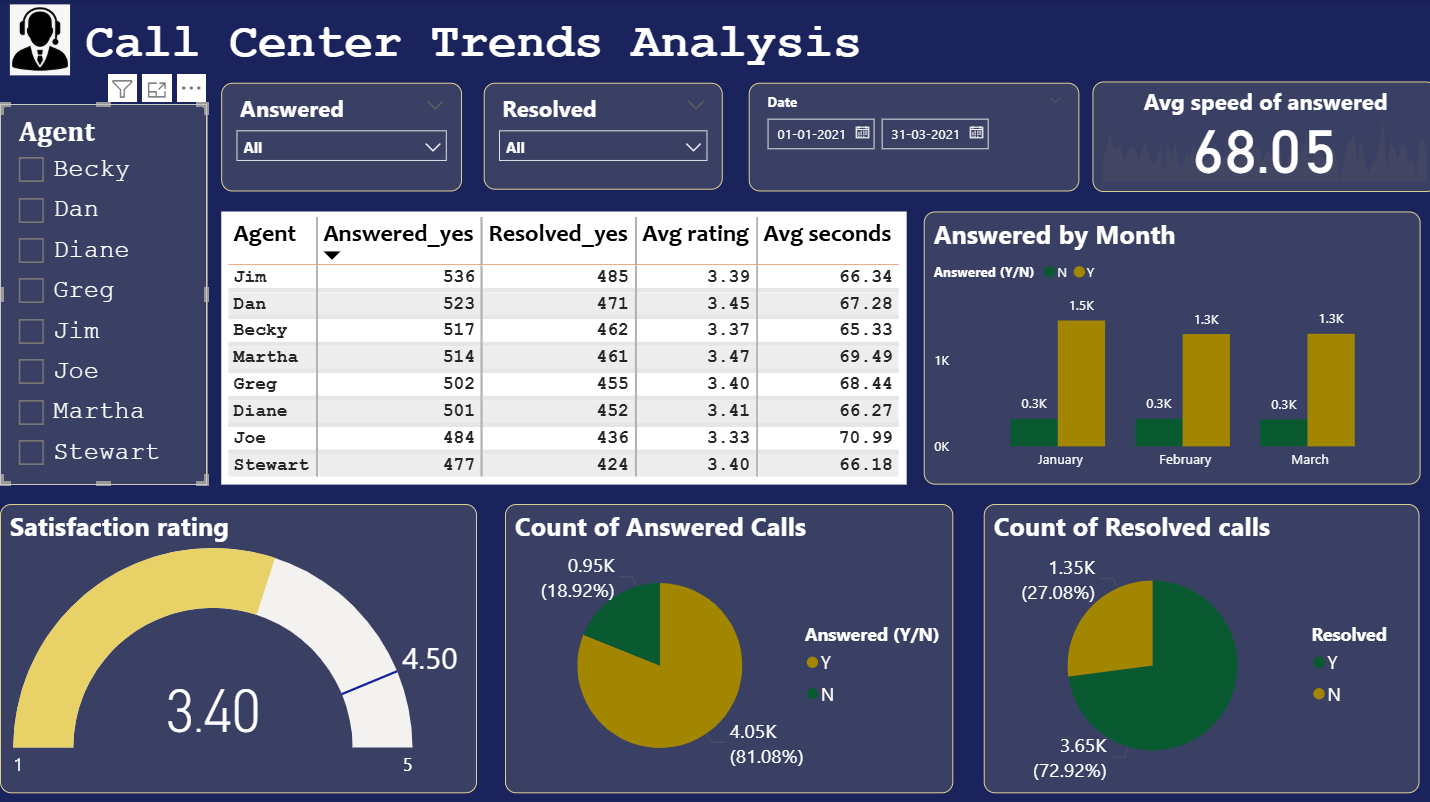

The dashboard page shown, as its layout file describes it:
{"tool":"powerbi","page":{"name":"Page 1","canvas":[1280,720],"ordinal":0},"visuals":[{"type":"textbox","box":[71.6,11.1,777.8,62],"z":0},{"type":"slicer","fields":{"Values":["Sheet1.Answered (Y/N)"]},"box":[197.2,74.8,214.7,97],"z":1000},{"type":"slicer","fields":{"Values":["Sheet1.Agent"]},"box":[0,93.8,184.5,338.8],"z":2000},{"type":"slicer","fields":{"Values":["Sheet1.Resolved"]},"box":[431.1,74.8,213.1,95.4],"z":3000},{"type":"slicer","fields":{"Values":["Sheet1.Date"]},"box":[666.5,74.8,294.3,97],"z":4000},{"type":"gauge","title":"Satisfaction rating","fields":{"Y":["Avg(Sheet1.Satisfaction rating)"],"MinValue":["Min(Sheet1.Satisfaction rating)"],"MaxValue":["Max(Sheet1.Satisfaction rating)"]},"box":[0,450.1,424.7,257.7],"z":5000},{"type":"pieChart","title":"Count of Answered Calls","fields":{"Category":["Sheet1.Answered (Y/N)"],"Y":["CountNonNull(Sheet1.Answered (Y/N))"]},"box":[450.1,450.1,399.2,257.7],"z":6000},{"type":"pieChart","title":"Count of Resolved calls","fields":{"Y":["CountNonNull(Sheet1.Resolved)"],"Category":["Sheet1.Resolved"]},"box":[876.4,450.1,388.1,257.7],"z":7000},{"type":"kpi","title":"Avg speed of answered","fields":{"Indicator":["Avg(Sheet1.Speed of answer in seconds)"],"TrendLine":["Sheet1.Date"]},"box":[973.5,73.2,307,98.6],"z":8000},{"type":"clusteredColumnChart","title":" Answered by Month","fields":{"Category":["Sheet1.Date.Variation.Date Hierarchy.Month"],"Y":["CountNonNull(Sheet1.Answered (Y/N))"],"Series":["Sheet1.Answered (Y/N)"]},"box":[822.3,189.3,442.2,243.4],"z":9000},{"type":"tableEx","fields":{"Values":["Sheet1.Agent","Sheet1.Answered_yes","Sheet1.Resolved_yes","Avg(Sheet1.Satisfaction rating)","Avg(Sheet1.Speed of answer in seconds)"]},"box":[197.2,189.3,610.8,243.4],"z":10000},{"type":"image","box":[0,0,71.6,73.2],"z":13000}]}

Visuals, with their boxes in screenshot pixels (x1, y1, x2, y2), scaled from the page's 1280x720 canvas onto the 1430x802 screenshot:
textbox: (left=80, top=12, right=949, bottom=81)
slicer - Sheet1.Answered (Y/N): (left=220, top=83, right=460, bottom=191)
slicer - Sheet1.Agent: (left=0, top=104, right=206, bottom=482)
slicer - Sheet1.Resolved: (left=482, top=83, right=720, bottom=190)
slicer - Sheet1.Date: (left=745, top=83, right=1073, bottom=191)
"Satisfaction rating" gauge: (left=0, top=501, right=474, bottom=788)
"Count of Answered Calls" pieChart: (left=503, top=501, right=949, bottom=788)
"Count of Resolved calls" pieChart: (left=979, top=501, right=1413, bottom=788)
"Avg speed of answered" kpi: (left=1088, top=82, right=1429, bottom=191)
" Answered by Month" clusteredColumnChart: (left=919, top=211, right=1413, bottom=482)
tableEx - Sheet1.Agent x Sheet1.Answered_yes: (left=220, top=211, right=903, bottom=482)
image: (left=0, top=0, right=80, bottom=82)
